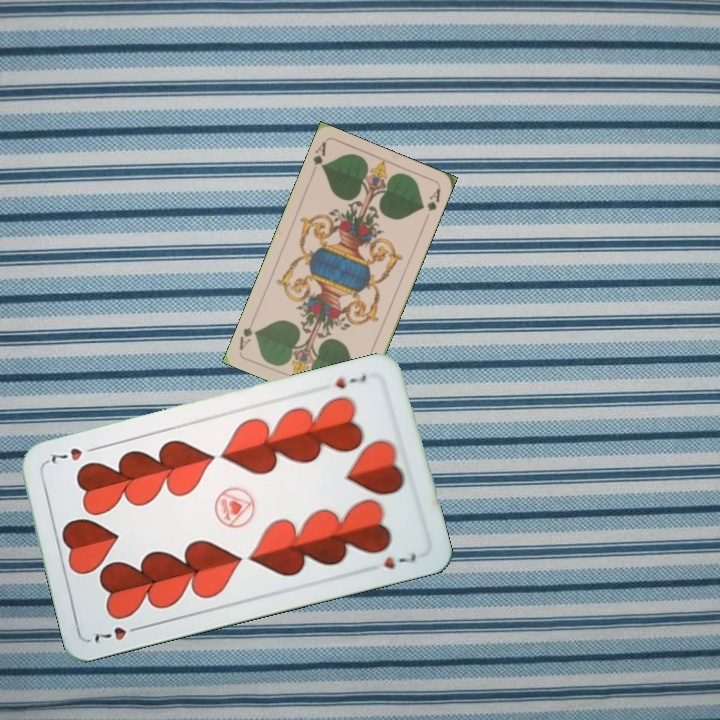GA: (309, 139, 328, 171)
H7: (89, 621, 146, 646), (331, 370, 369, 392)
